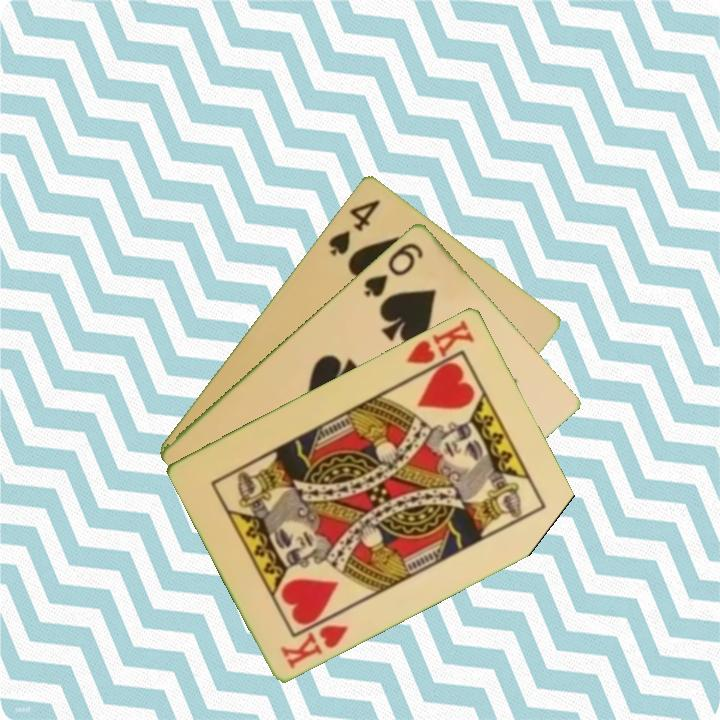4s: (325, 195, 384, 259)
6s: (360, 238, 427, 300)
Kh: (403, 315, 478, 380), (277, 620, 352, 672)
